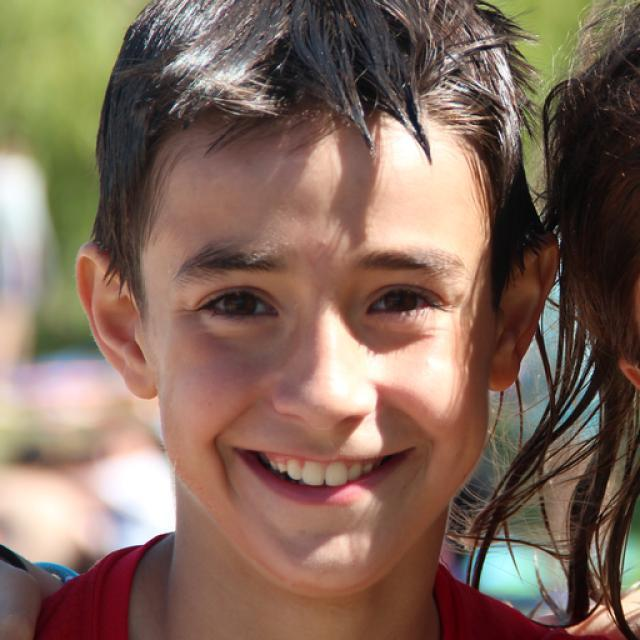happy: (151, 96, 494, 595)
